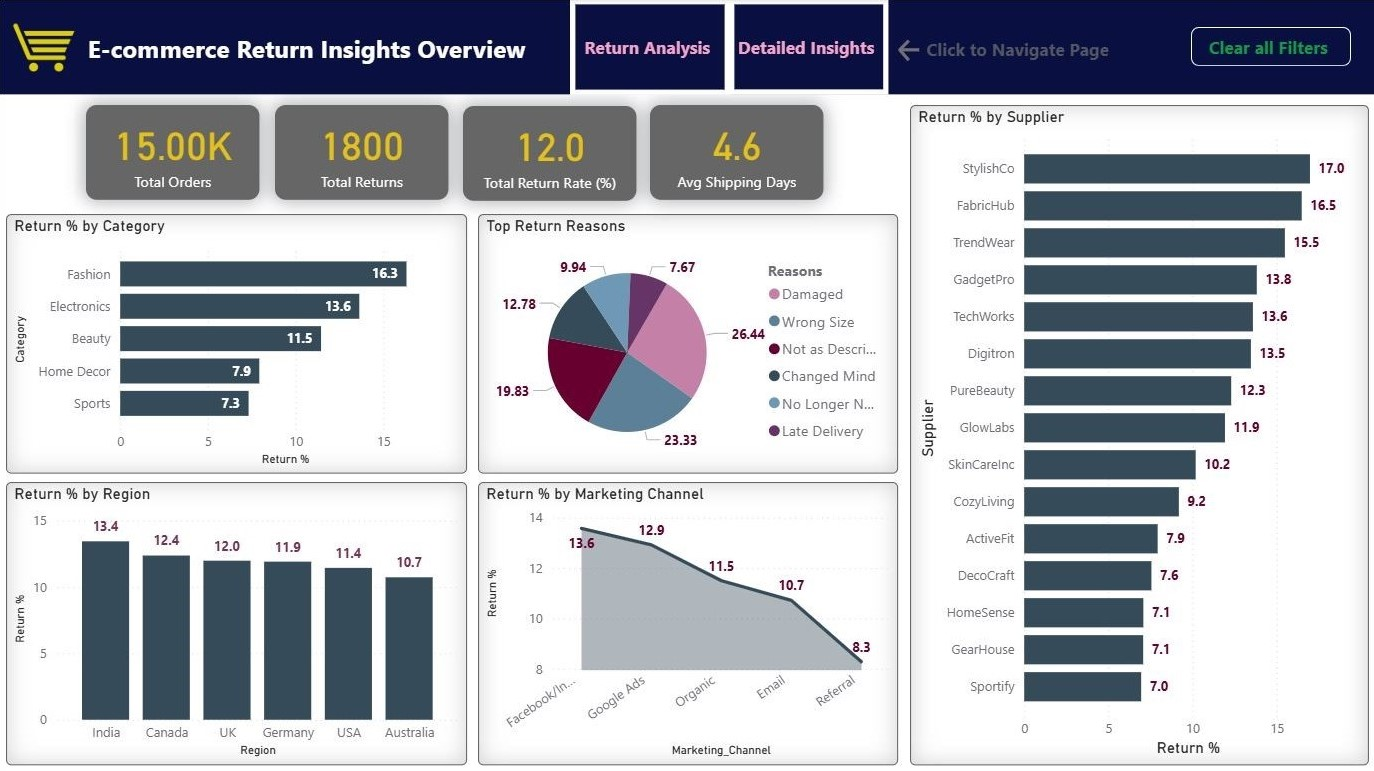

This screenshot's page, from the dashboard's own definition file:
{"tool":"powerbi","page":{"name":"Return Rate Overview","canvas":[1280,720],"ordinal":0},"visuals":[{"type":"shape","box":[0,0,1280,88.5],"z":0},{"type":"actionButton","box":[60.7,26.3,450.8,38.9],"z":0,"group":"g1"},{"type":"image","box":[0,0,88.7,88.7],"z":1000,"group":"g1"},{"type":"card","title":"Total Orders","fields":{"Values":["CountNonNull(E_Commerce Data.order_id)"]},"box":[80.8,98.2,161.5,87.5],"z":1000},{"type":"card","title":"Total Orders","fields":{"Values":["Sum(E_Commerce Data.return_flag)"]},"box":[255.8,98.2,161.5,87.5],"z":2000},{"type":"card","title":"Total Orders","fields":{"Values":["Sum(public vw_return_overall.return_rate_pct)"]},"box":[430.9,99.2,161.5,87.5],"z":3000},{"type":"barChart","title":"Return % by Category","fields":{"Category":["public vw_return_by_category.category"],"Y":["Sum(public vw_return_by_category.return_rate_pct)"]},"box":[6.8,199.4,428,241.2],"z":4000},{"type":"columnChart","title":"Return % by Region","fields":{"Category":["Return % by Region.region"],"Y":["Sum(Return % by Region.return_rate_pct)"]},"box":[6.5,448.3,427.9,262.7],"z":5000},{"type":"barChart","title":"Return % by Supplier","fields":{"Category":["Return % by Supplier.supplier"],"Y":["Sum(Return % by Supplier.return_percentage)"]},"box":[845.6,98.4,426,612.6],"z":6000},{"type":"lineChart","title":"Return % by Marketing Channel","fields":{"Category":["Return % by  marketing channel.marketing_channel"],"Y":["Sum(Return % by  marketing channel.return_rate_pct)"]},"box":[444.6,448.3,389.8,262.7],"z":7000},{"type":"pieChart","title":"Top Return Reasons","fields":{"Category":["Top return reasons.return_reason"],"Y":["Sum(Top return reasons.percent_of_returns)"]},"box":[444.5,199.4,390,241.2],"z":8000},{"type":"card","title":"Total Orders","fields":{"Values":["Avg(Delivery Issues + Shipping Time.avg_shipping_days)"]},"box":[604,98.2,161.5,87.5],"z":9000},{"type":"shape","box":[1106.4,26,148.5,36.2],"z":10000},{"type":"group","id":"g1","title":"Group 1","box":[0,0,511.5,88.7],"z":11000},{"type":"shape","box":[530,0,148.5,89.1],"z":12000},{"type":"shape","box":[677.8,0,148.1,88.9],"z":13000},{"type":"shape","box":[853,29.7,190.3,32.5],"z":13001,"group":"g2"},{"type":"actionButton","box":[830.7,33.4,28.8,28.8],"z":13002,"group":"g2"},{"type":"group","id":"g2","title":"Group 2","box":[830.7,29.7,212.6,32.5],"z":13003}]}

Visuals, with their boxes in screenshot pixels (x1, y1, x2, y2), scaled from the page's 1280x720 canvas onto the 1374x771 screenshot:
shape: bbox=[0, 0, 1373, 95]
actionButton: bbox=[65, 28, 549, 70]
image: bbox=[0, 0, 95, 95]
"Total Orders" card: bbox=[87, 105, 260, 199]
"Total Orders" card: bbox=[275, 105, 448, 199]
"Total Orders" card: bbox=[463, 106, 636, 200]
"Return % by Category" barChart: bbox=[7, 214, 467, 472]
"Return % by Region" columnChart: bbox=[7, 480, 466, 761]
"Return % by Supplier" barChart: bbox=[908, 105, 1365, 761]
"Return % by Marketing Channel" lineChart: bbox=[477, 480, 896, 761]
"Top Return Reasons" pieChart: bbox=[477, 214, 896, 472]
"Total Orders" card: bbox=[648, 105, 822, 199]
shape: bbox=[1188, 28, 1347, 67]
"Group 1" group: bbox=[0, 0, 549, 95]
shape: bbox=[569, 0, 728, 95]
shape: bbox=[728, 0, 887, 95]
shape: bbox=[916, 32, 1120, 67]
actionButton: bbox=[892, 36, 923, 67]
"Group 2" group: bbox=[892, 32, 1120, 67]
